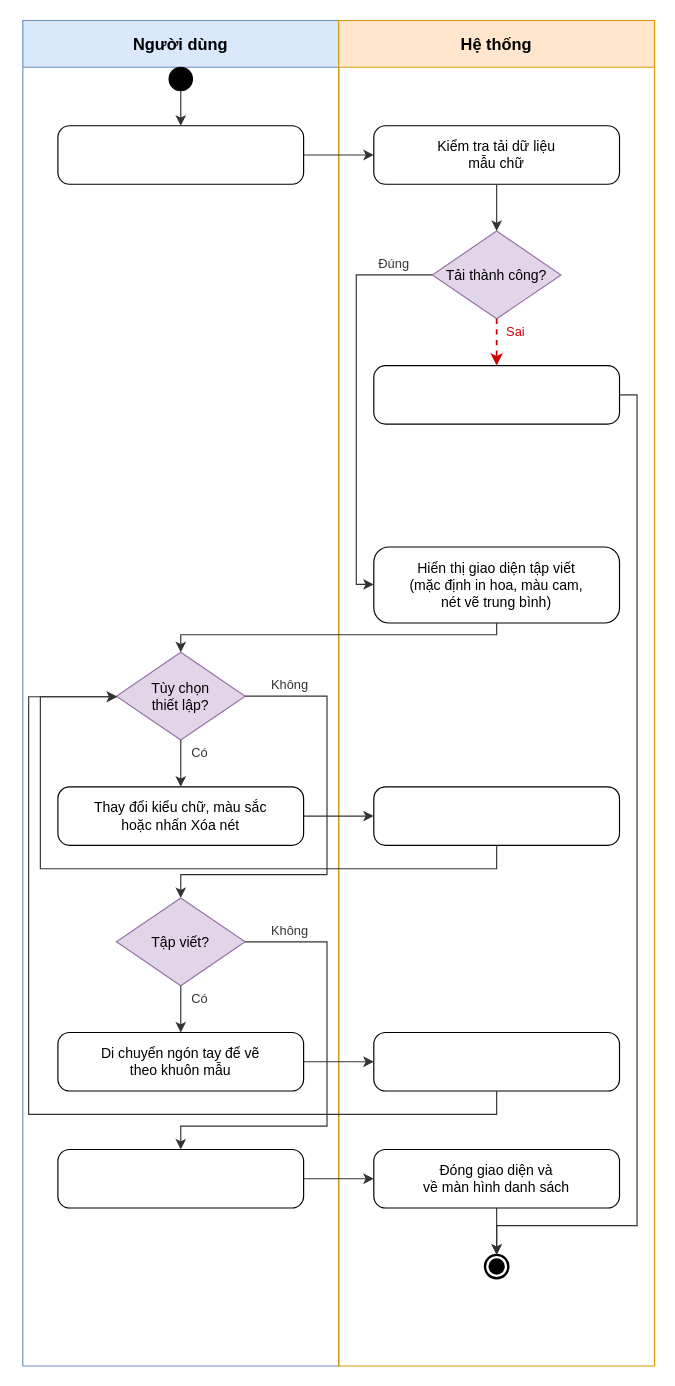
This 675x1386 diagram has some shape labels left out. Each missing label, with the centre of its shape:
"Bấm chọn thẻ chữ cái trên danh sách" goes at point (180, 154).
"Hiển thị cảnh báo lỗi" goes at point (496, 394).
"Nhấn nút quay lại" goes at point (180, 1178).
"Nhận dạng và hiển thị nét vẽ thời gian thực" goes at point (496, 1061).
"Xóa nét hiện tại hoặc áp dụng màu, nét vẽ mới" goes at point (496, 815).
